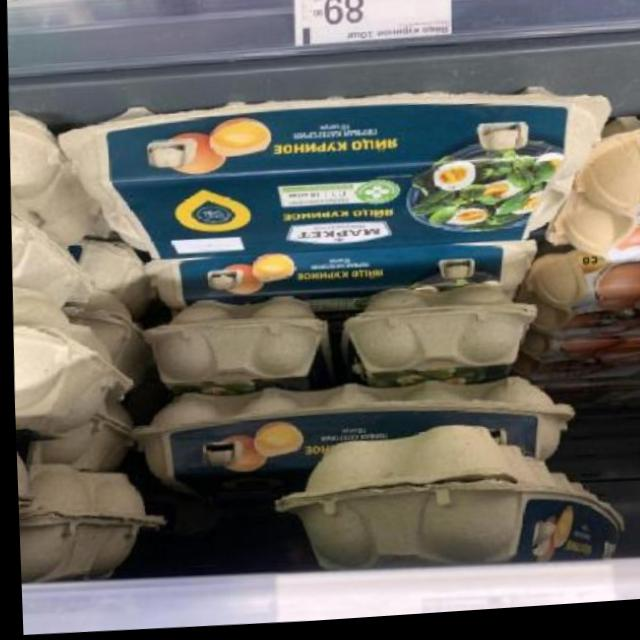Egg: (50, 75, 613, 270), (141, 236, 533, 319), (141, 292, 339, 398), (334, 284, 532, 389), (550, 123, 640, 273), (521, 254, 640, 352)
